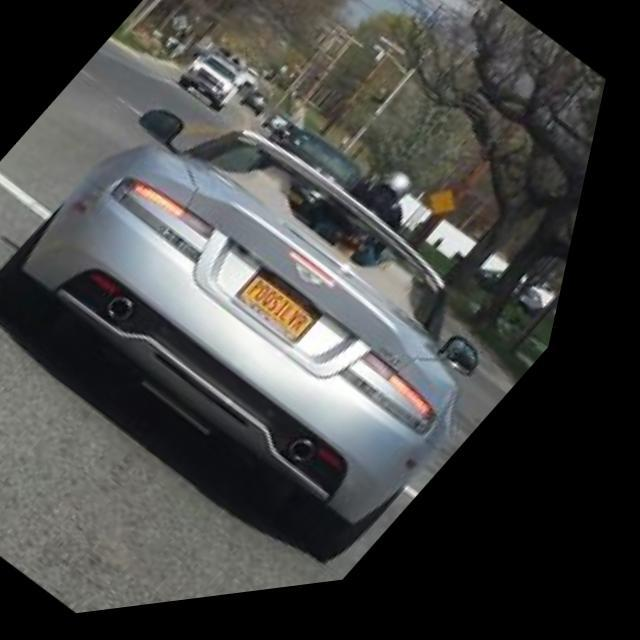license_plate: (236, 262, 356, 364)
